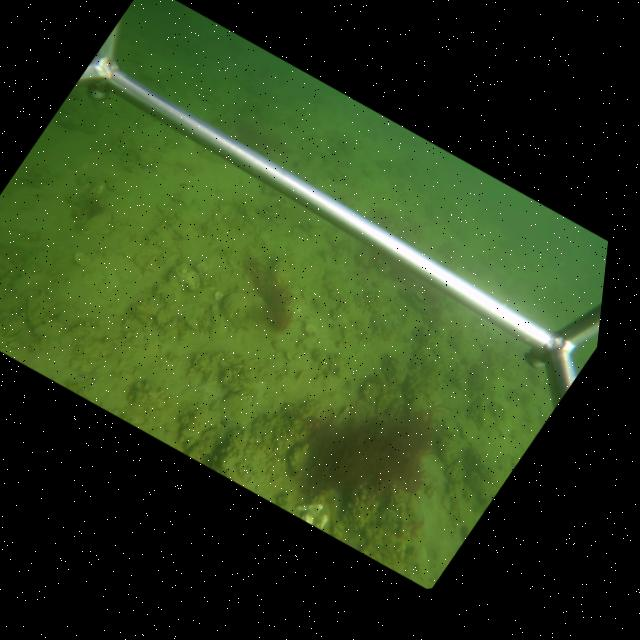Oyster-Closed: (220, 290, 276, 327), (180, 314, 201, 334)
Oyster-Indeterminate: (445, 409, 501, 486), (269, 255, 297, 295)
